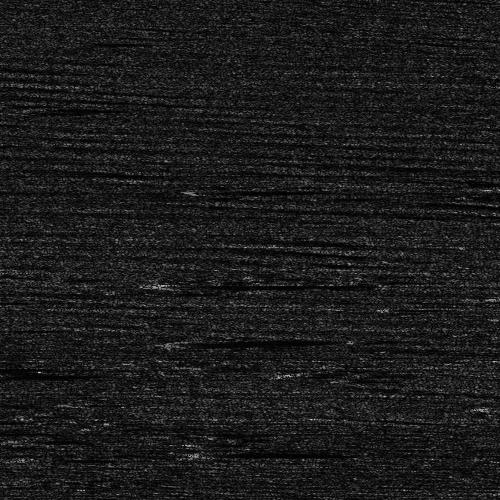rock: (179, 445, 262, 454), (167, 336, 230, 345), (0, 368, 14, 379), (487, 405, 500, 410)
shadow: (221, 445, 451, 454), (199, 336, 329, 345), (0, 368, 105, 379), (172, 282, 367, 285), (0, 371, 32, 382), (0, 298, 116, 301)
